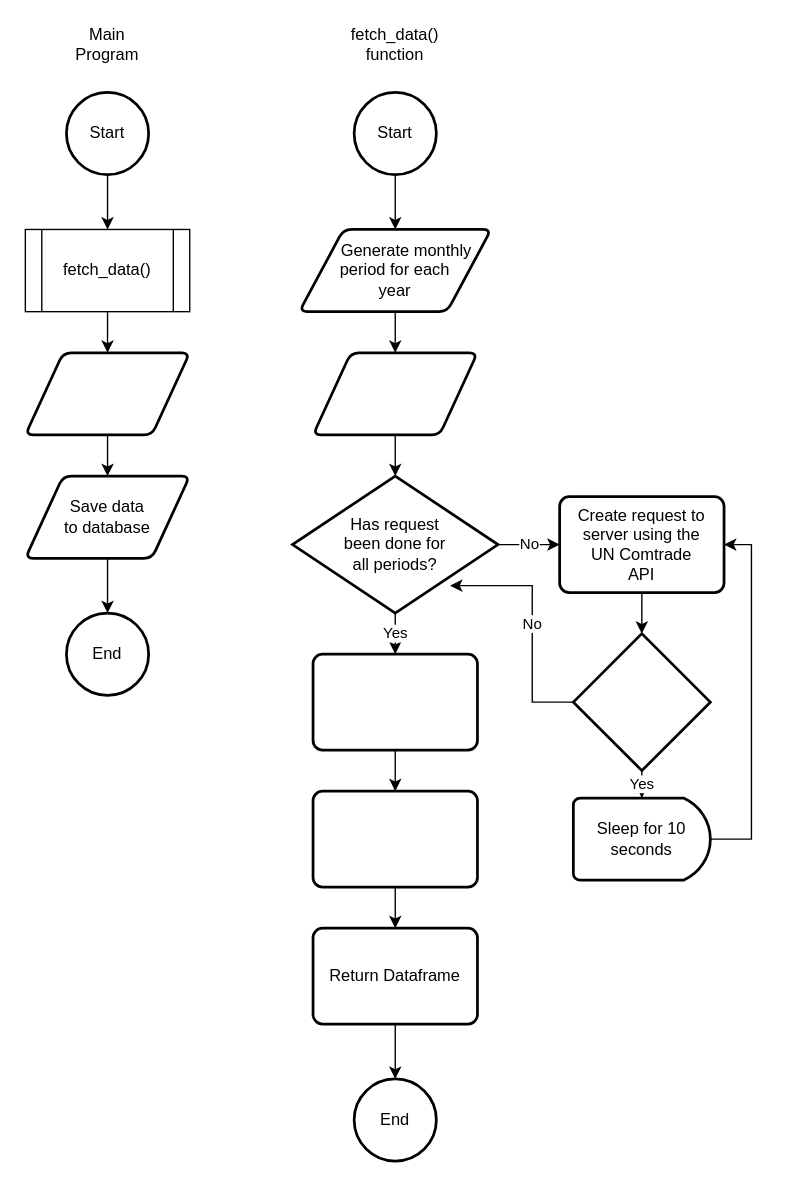
The diagram is 786 pixels wide and 1185 high, and some of its shapes have lost their labels. Each missing label, with the box of its shape:
Any timeout?: (571, 632, 711, 771)
Append data to array: (311, 652, 478, 751)
Convert data array to Dataframe: (311, 789, 478, 888)
Make connection to MySQL database: (23, 351, 190, 436)
Save generated period in p: (311, 351, 478, 436)
